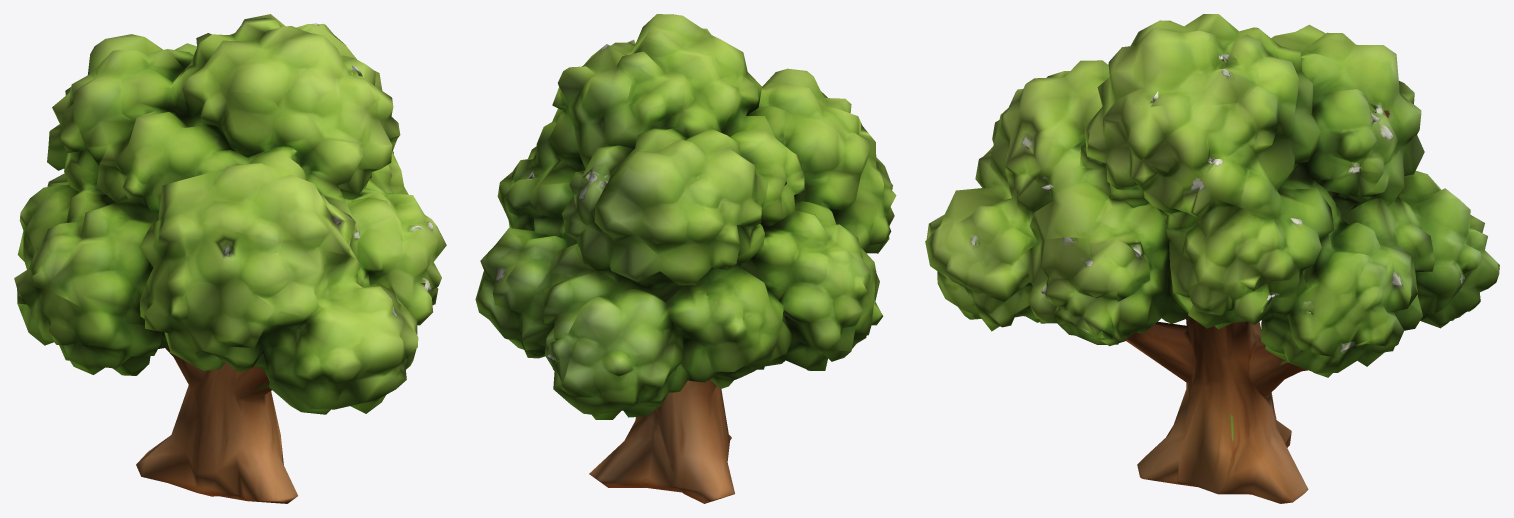
File: tree_l1.glb
3 views of the same model, side by side, from view 1: azimuth 30°, elevation 25°; view 2: azimuth 150°, elevation 25°; view 3: azimuth 270°, elevation 25° (orthographic). The views are drawn at different scales.
Size of the model in its own units: 0.758 by 0.8709 by 0.9745.
1 material, 1 textured.
